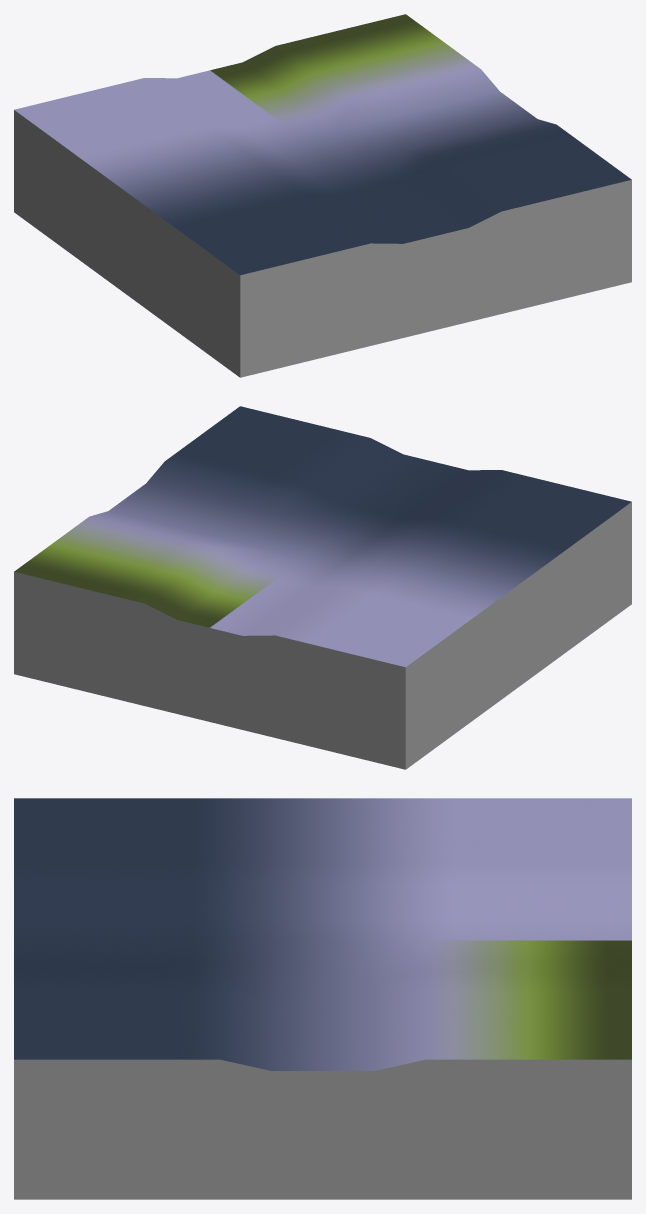
File: PathFlatT.fbx
3 renders of one model, top to bottom at view 1: azimuth 30°, elevation 25°; view 2: azimuth 150°, elevation 25°; view 3: azimuth 270°, elevation 25°, orthographic. The views are drawn at different scales.
Parts seen in each view (by area): view 1: PathFlatT; view 2: PathFlatT; view 3: PathFlatT.
Part boxes in pixels (box(x1,y1,x2,y2)): PathFlatT: box(14, 14, 631, 377); PathFlatT: box(14, 406, 631, 769); PathFlatT: box(14, 798, 631, 1199).
Size of the model in its own units: 1200 by 300 by 1200.
